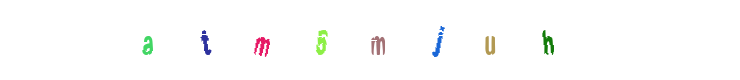5: (281, 0, 361, 80)
A: (210, 0, 290, 80)
H: (508, 0, 588, 80)
J: (330, 0, 410, 80)
M: (277, 0, 357, 80), (323, 0, 403, 80)
T: (222, 0, 302, 80)
U: (378, 0, 458, 80)
